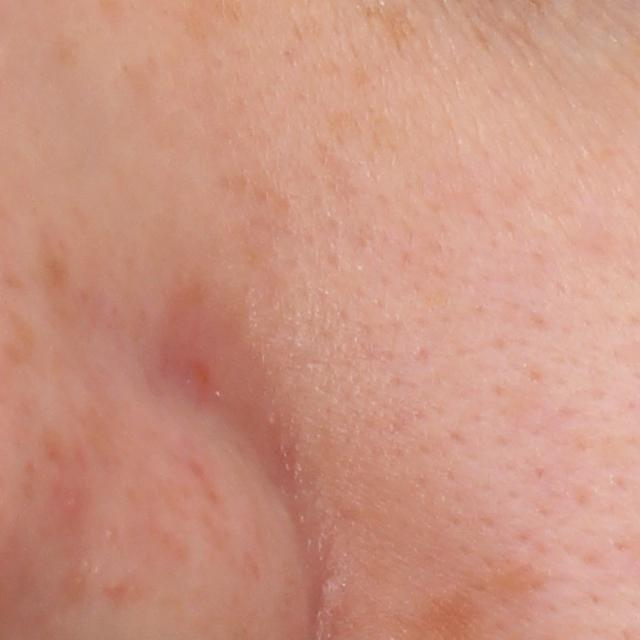melasma: (35, 248, 77, 326), (365, 5, 414, 57), (3, 307, 45, 364)
